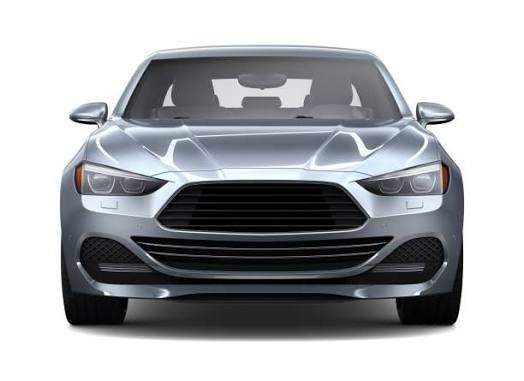car: (60, 51, 456, 310)
